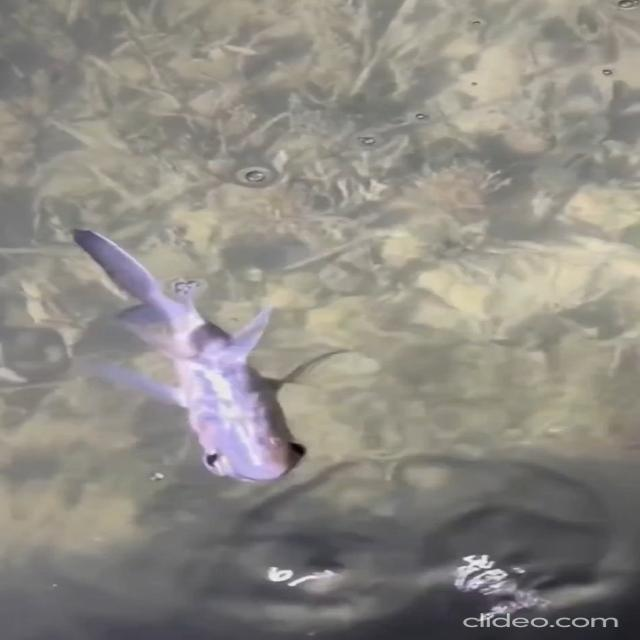fish: (68, 204, 378, 494)
